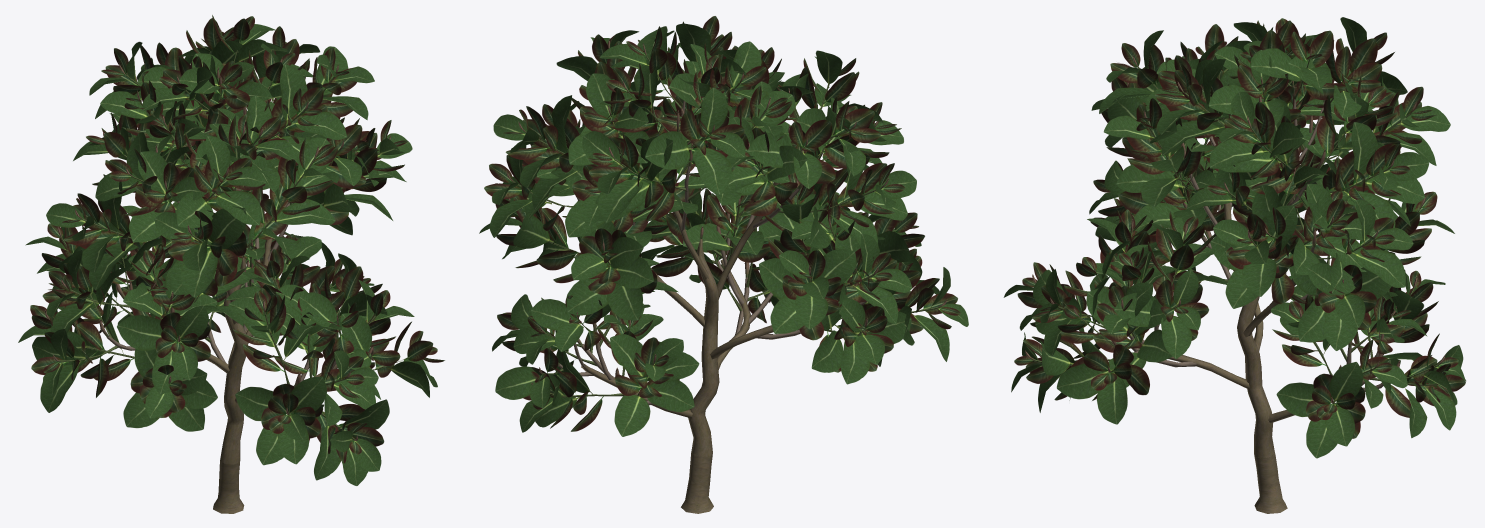
File: rubber_fig.glb
3 views of the same model, side by side, from view 1: azimuth 30°, elevation 25°; view 2: azimuth 150°, elevation 25°; view 3: azimuth 270°, elevation 25° (orthographic). The views are drawn at different scales.
Visible parts, largest first — view 1: Bark01_1_w; view 2: Bark01_1_w; view 3: Bark01_1_w.
Part boxes in pixels (bbox=[...]): Bark01_1_w: bbox=[18, 15, 444, 513]; Bark01_1_w: bbox=[479, 16, 968, 513]; Bark01_1_w: bbox=[1003, 17, 1465, 513].
Bounding box in the file's own units: 3.78 × 4.2 × 3.66.
Materials: 6 (6 with a texture image).
